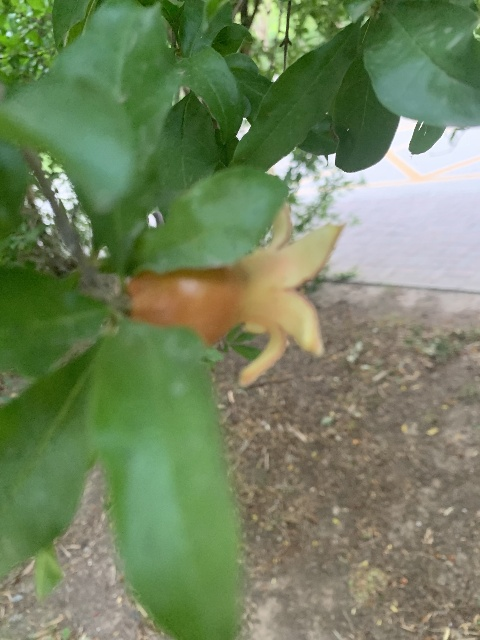early-fruit: (126, 200, 343, 389)
